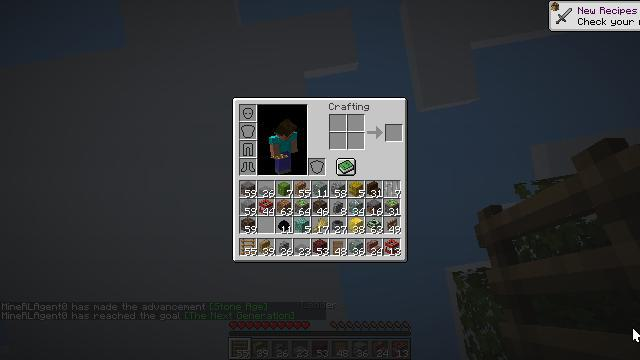cursor: (632, 327, 640, 343)
